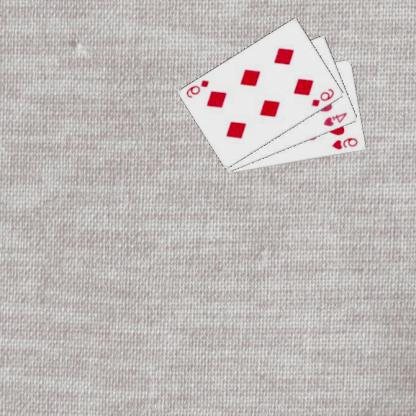4H: (323, 110, 350, 128)
6D: (310, 86, 338, 108), (186, 77, 212, 99)
9H: (332, 135, 361, 151)
